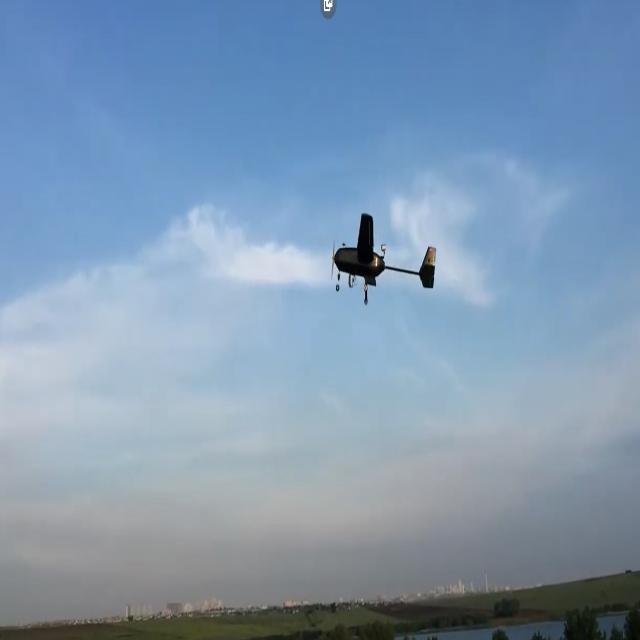iha: (361, 242, 408, 278)
